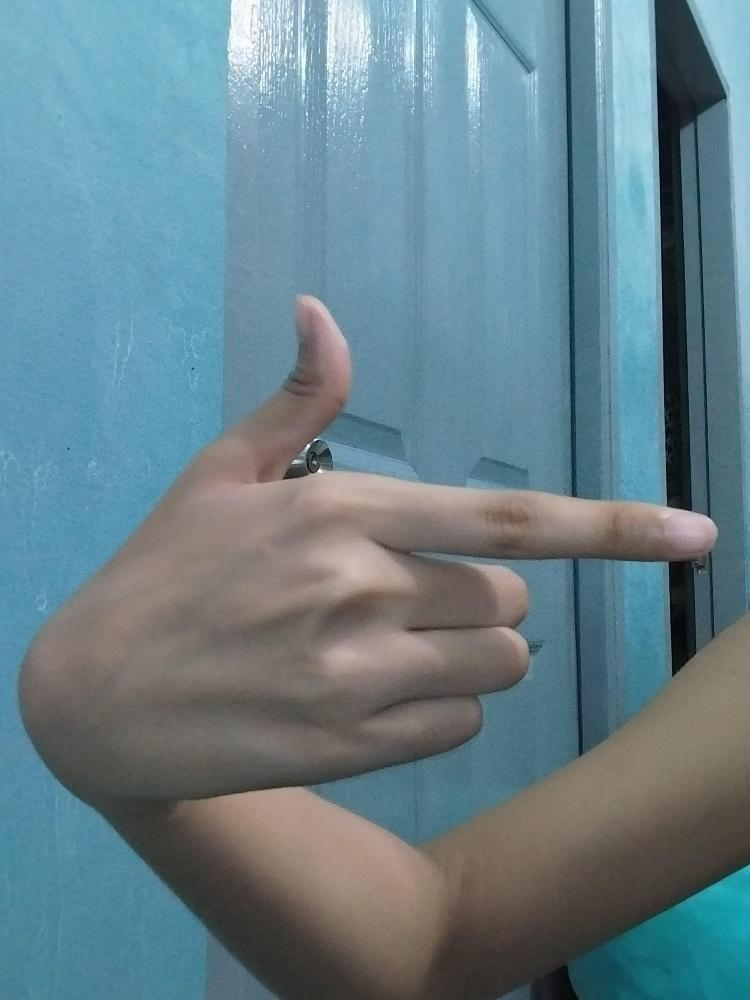g: (41, 296, 716, 793)
